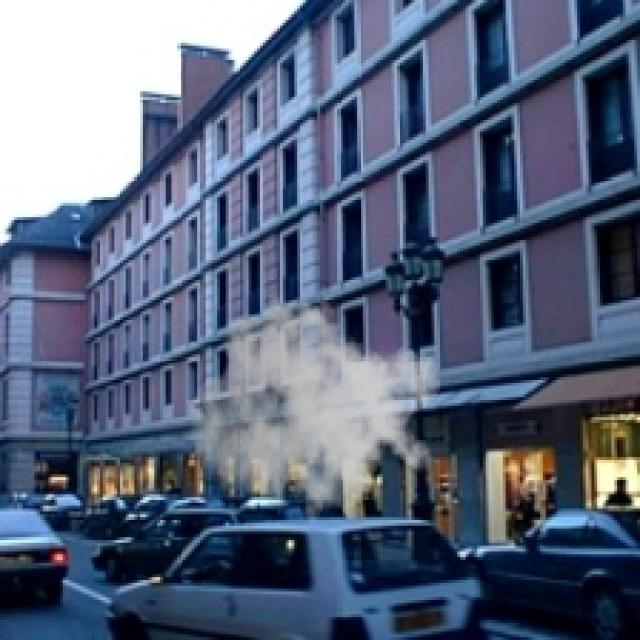smoke: (188, 286, 443, 537)
